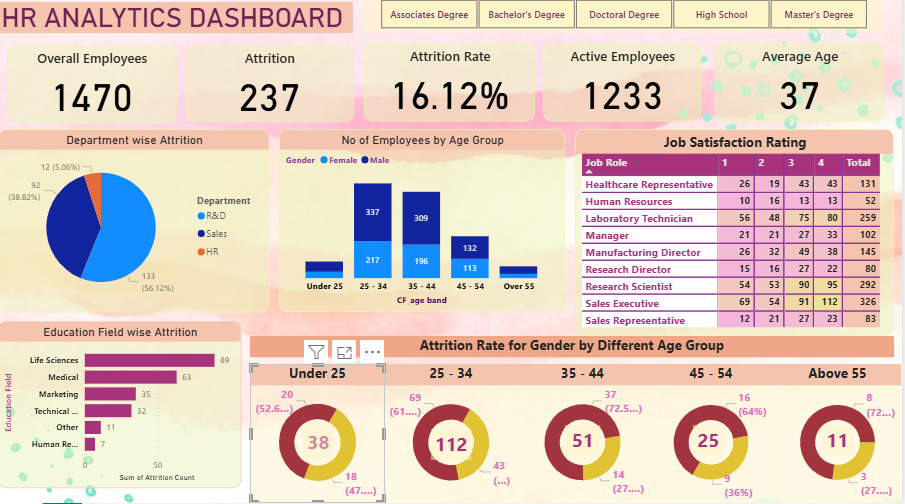

The dashboard page shown, as its layout file describes it:
{"tool":"powerbi","page":{"name":"Page 1","canvas":[1280,720],"ordinal":0},"visuals":[{"type":"card","title":"Overall Employees","fields":{"Values":["Sum(HR data.Employee Count)"]},"box":[12.8,70.9,239.5,110.6],"z":0},{"type":"card","title":"Attrition","fields":{"Values":["Sum(HR data.Attrition Count)"]},"box":[265.4,70.6,238.5,109.2],"z":1000},{"type":"card","title":"Attrition Rate","fields":{"Values":["HR data.Attrition Rate"]},"box":[518.7,68,242.4,110.6],"z":2000},{"type":"card","title":"Active Employees","fields":{"Values":["HR data.Active Employees"]},"box":[772.4,68,223.9,110.6],"z":3000},{"type":"card","title":"Average Age","fields":{"Values":["Avg(HR data.Age)"]},"box":[1016.2,68,239.5,110.6],"z":4000},{"type":"pieChart","title":"Department wise Attrition","fields":{"Category":["HR data.Department"],"Y":["Sum(HR data.Attrition Count)"]},"box":[0,189.8,385,260],"z":5000},{"type":"columnChart","title":"No of Employees by Age Group","fields":{"Category":["HR data.CF_age band"],"Y":["Sum(HR data.Employee Count)"],"Series":["HR data.Gender"]},"box":[398.3,189.9,405.4,259.4],"z":6000},{"type":"pivotTable","title":"Job Satisfaction Rating","fields":{"Rows":["HR data.Job Role"],"Columns":["HR data.Job Satisfaction"],"Values":["Sum(HR data.Employee Count)"]},"box":[817.8,189.9,452.1,293.4],"z":7000},{"type":"barChart","title":"Education Field wise Attrition","fields":{"Category":["HR data.Education Field"],"Y":["Sum(HR data.Attrition Count)"]},"box":[0,461.5,345,237],"z":8000},{"type":"donutChart","title":"Under 25","fields":{"Category":["HR data.Gender"],"Y":["Sum(HR data.Attrition Count)"],"Series":["HR data.CF_age band"]},"box":[357.2,523,191.3,197],"z":9000},{"type":"textbox","title":"Attrition Rate for Gender by Different Age Group","box":[357.2,483.3,912.8,29.8],"z":10000},{"type":"donutChart","title":"25 - 34","fields":{"Category":["HR data.Gender"],"Y":["Sum(HR data.Attrition Count)"],"Series":["HR data.CF_age band"]},"box":[548.5,523,187.1,197],"z":11000},{"type":"donutChart","title":"35 - 44","fields":{"Category":["HR data.Gender"],"Y":["Sum(HR data.Attrition Count)"],"Series":["HR data.CF_age band"]},"box":[735.6,523,185.7,197],"z":12000},{"type":"donutChart","title":"Above 55","fields":{"Category":["HR data.Gender"],"Y":["Sum(HR data.Attrition Count)"],"Series":["HR data.CF_age band"]},"box":[1099.8,523,180,197],"z":13000},{"type":"donutChart","title":"45 - 54","fields":{"Category":["HR data.Gender"],"Y":["Sum(HR data.Attrition Count)"],"Series":["HR data.CF_age band"]},"box":[921.3,523,178.6,197],"z":14000},{"type":"card","fields":{"Values":["Sum(HR data.Attrition Count)"]},"box":[431.7,609.8,43.7,48.7],"z":15000},{"type":"card","fields":{"Values":["Sum(HR data.Attrition Count)"]},"box":[613.1,614.8,57.1,43.7],"z":16000},{"type":"card","fields":{"Values":["Sum(HR data.Attrition Count)"]},"box":[802.9,609.8,50.4,43.7],"z":17000},{"type":"card","fields":{"Values":["Sum(HR data.Attrition Count)"]},"box":[984.4,609.8,43.7,43.7],"z":18000},{"type":"card","fields":{"Values":["Sum(HR data.Attrition Count)"]},"box":[1167.5,609.8,43.7,43.7],"z":19000},{"type":"textbox","title":"HR ANALYTICS DASHBOARD ","box":[0,9.9,503.1,43.9],"z":20000},{"type":"slicer","fields":{"Values":["HR data.Education"]},"box":[517.3,0,738.4,53.9],"z":21000}]}

Visuals, with their boxes in screenshot pixels (x1, y1, x2, y2), scaled from the page's 1280x720 canvas onto the 905x504 screenshot:
"Overall Employees" card: 9 50 178 127
"Attrition" card: 188 49 356 126
"Attrition Rate" card: 367 48 538 125
"Active Employees" card: 546 48 704 125
"Average Age" card: 718 48 888 125
"Department wise Attrition" pieChart: 0 133 272 315
"No of Employees by Age Group" columnChart: 282 133 568 315
"Job Satisfaction Rating" pivotTable: 578 133 898 338
"Education Field wise Attrition" barChart: 0 323 244 489
"Under 25" donutChart: 253 366 388 503
"Attrition Rate for Gender by Different Age Group" textbox: 253 338 898 359
"25 - 34" donutChart: 388 366 520 503
"35 - 44" donutChart: 520 366 651 503
"Above 55" donutChart: 778 366 904 503
"45 - 54" donutChart: 651 366 778 503
card - Sum(HR data.Attrition Count): 305 427 336 461
card - Sum(HR data.Attrition Count): 433 430 474 461
card - Sum(HR data.Attrition Count): 568 427 603 457
card - Sum(HR data.Attrition Count): 696 427 727 457
card - Sum(HR data.Attrition Count): 825 427 856 457
"HR ANALYTICS DASHBOARD " textbox: 0 7 356 38
slicer - HR data.Education: 366 0 888 38
